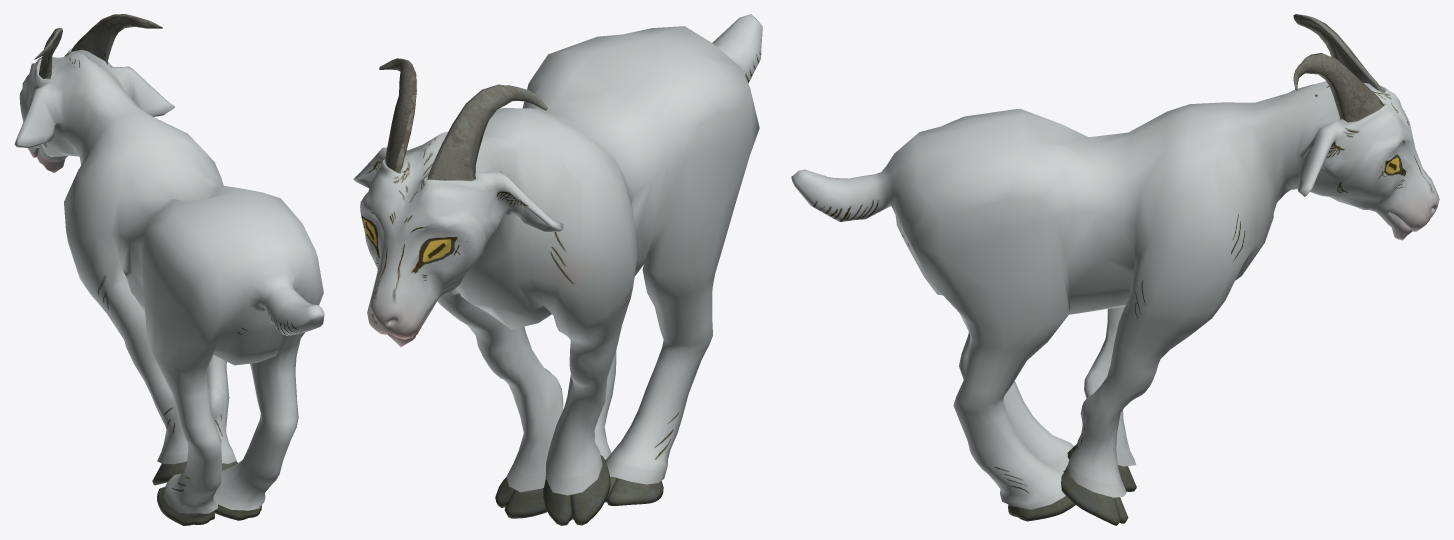
The model's file is Goatbalancingonstand 1.fbx.
The picture shows the model from 3 angles, left to right: view 1: azimuth 30°, elevation 25°; view 2: azimuth 150°, elevation 25°; view 3: azimuth 270°, elevation 25°; orthographic projection. The views are drawn at different scales.
Visible parts, largest first — view 1: Tiger.006; view 2: Tiger.006; view 3: Tiger.006.
Part boxes in pixels (<box>): Tiger.006: <box>14,14,324,525</box>; Tiger.006: <box>353,14,762,525</box>; Tiger.006: <box>791,14,1439,525</box>.
Bounding box in the file's own units: 45.69 × 112 × 142.
